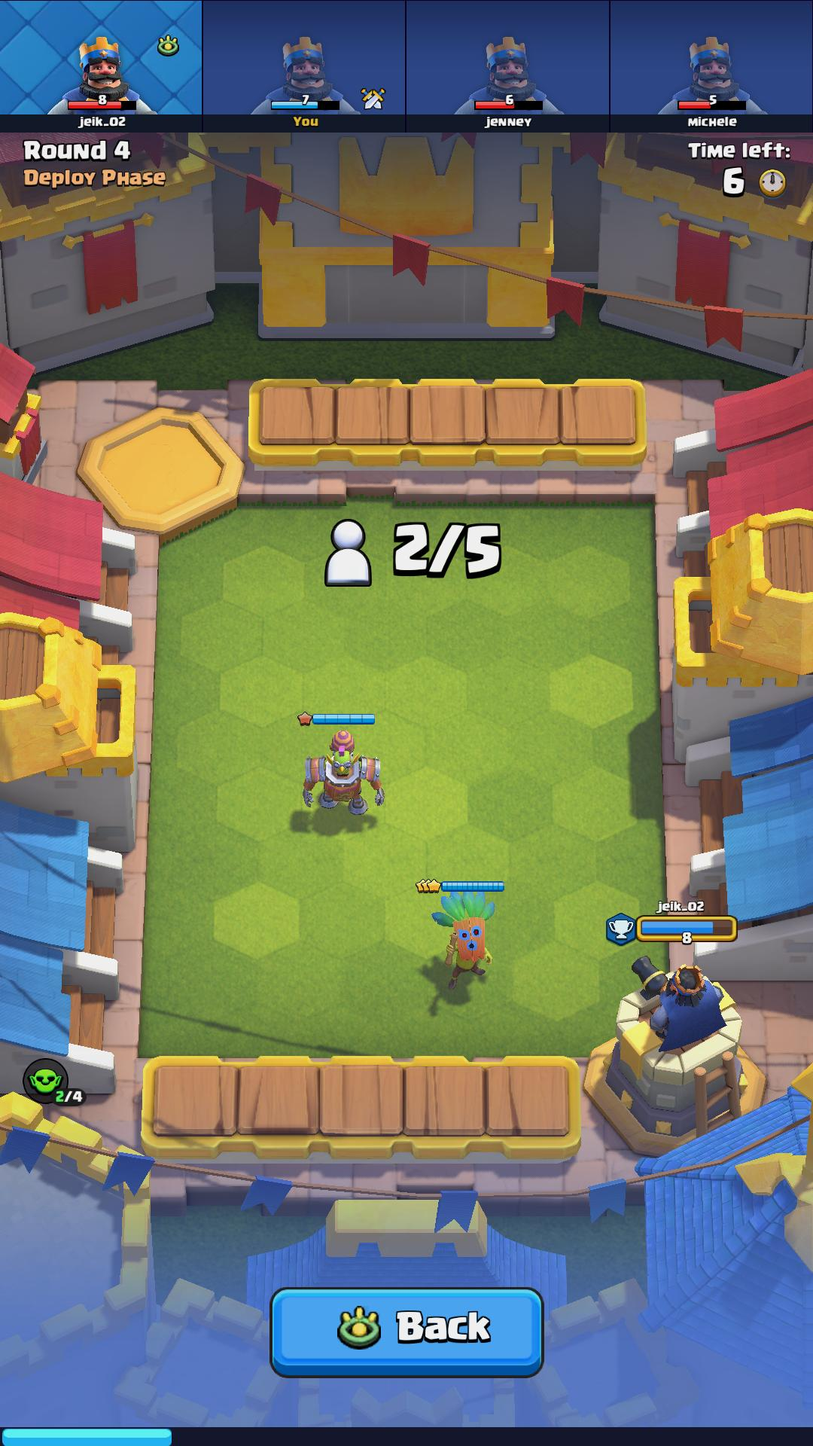dart: (418, 892, 523, 980)
machine: (285, 734, 400, 813)
